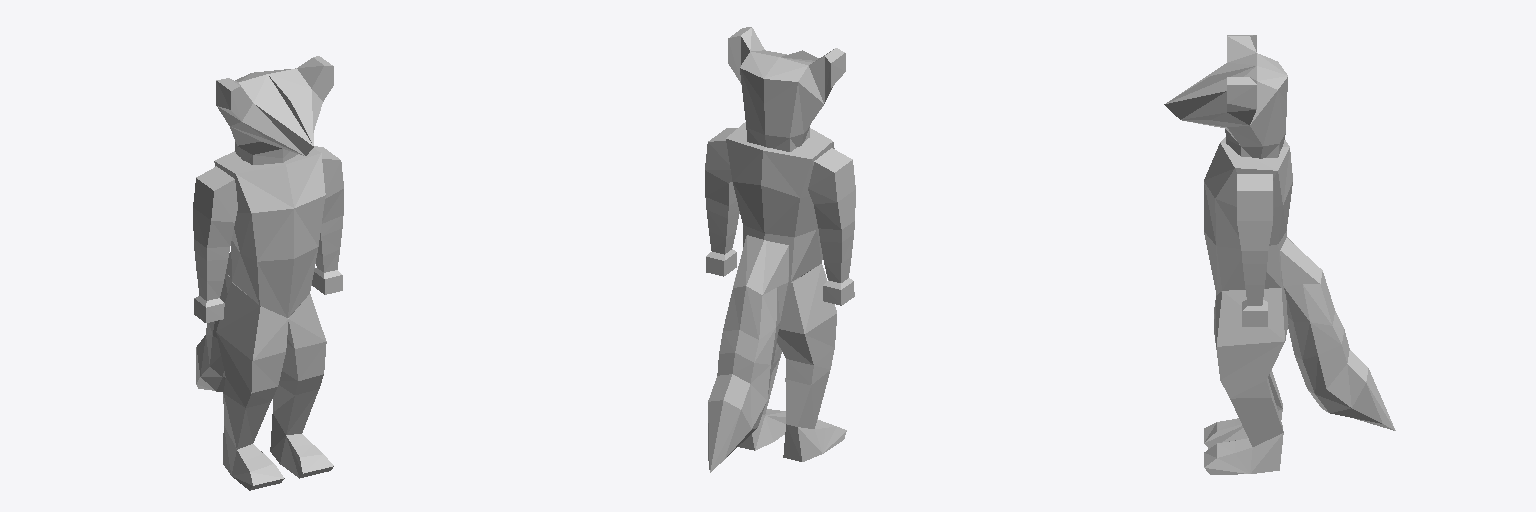
The model's file is Sable.31.05.21.Buggie.weight.obj.
3 renders of one model, left to right at view 1: azimuth 30°, elevation 25°; view 2: azimuth 150°, elevation 25°; view 3: azimuth 270°, elevation 25°, orthographic.
Parts seen in each view (by area): view 1: Torso_Cube.001, Leg.R_Cube.006, Head_Cube, Leg.L_Cube.003, Arm.R_Cube.005, Arm.L_Cube.002, Tail_Cube.004; view 2: Tail_Cube.004, Torso_Cube.001, Head_Cube, Leg.R_Cube.006, Arm.R_Cube.005, Arm.L_Cube.002, Leg.L_Cube.003; view 3: Leg.L_Cube.003, Tail_Cube.004, Head_Cube, Torso_Cube.001, Arm.L_Cube.002, Leg.R_Cube.006.
Boxes of the visible parts, x1=… form: Torso_Cube.001: x1=214, y1=148, x2=325, y2=317; Leg.R_Cube.006: x1=216, y1=282, x2=288, y2=490; Head_Cube: x1=216, y1=56, x2=333, y2=164; Leg.L_Cube.003: x1=270, y1=294, x2=333, y2=478; Arm.R_Cube.005: x1=193, y1=166, x2=237, y2=322; Arm.L_Cube.002: x1=312, y1=146, x2=343, y2=294; Tail_Cube.004: x1=196, y1=252, x2=246, y2=391; Tail_Cube.004: x1=708, y1=235, x2=788, y2=472; Torso_Cube.001: x1=726, y1=122, x2=834, y2=282; Head_Cube: x1=728, y1=27, x2=845, y2=151; Leg.R_Cube.006: x1=777, y1=264, x2=846, y2=461; Arm.R_Cube.005: x1=808, y1=148, x2=855, y2=305; Arm.L_Cube.002: x1=705, y1=128, x2=739, y2=276; Leg.L_Cube.003: x1=738, y1=343, x2=785, y2=450; Leg.L_Cube.003: x1=1204, y1=287, x2=1288, y2=474; Tail_Cube.004: x1=1280, y1=237, x2=1395, y2=430; Head_Cube: x1=1164, y1=35, x2=1287, y2=158; Torso_Cube.001: x1=1204, y1=137, x2=1292, y2=294; Arm.L_Cube.002: x1=1237, y1=174, x2=1273, y2=326; Leg.R_Cube.006: x1=1204, y1=295, x2=1282, y2=448.
Bounding box in the file's own units: 0.7088 × 1.97 × 1.04.